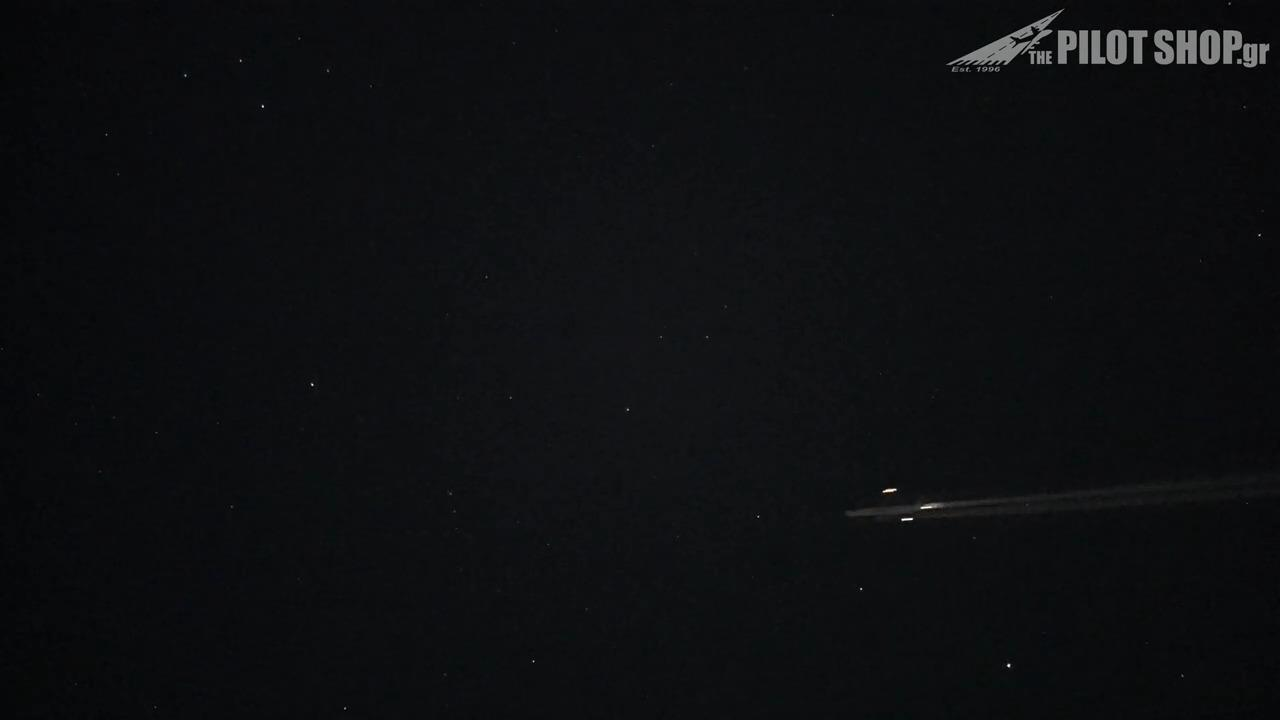Plane: (800, 467, 1246, 531)
